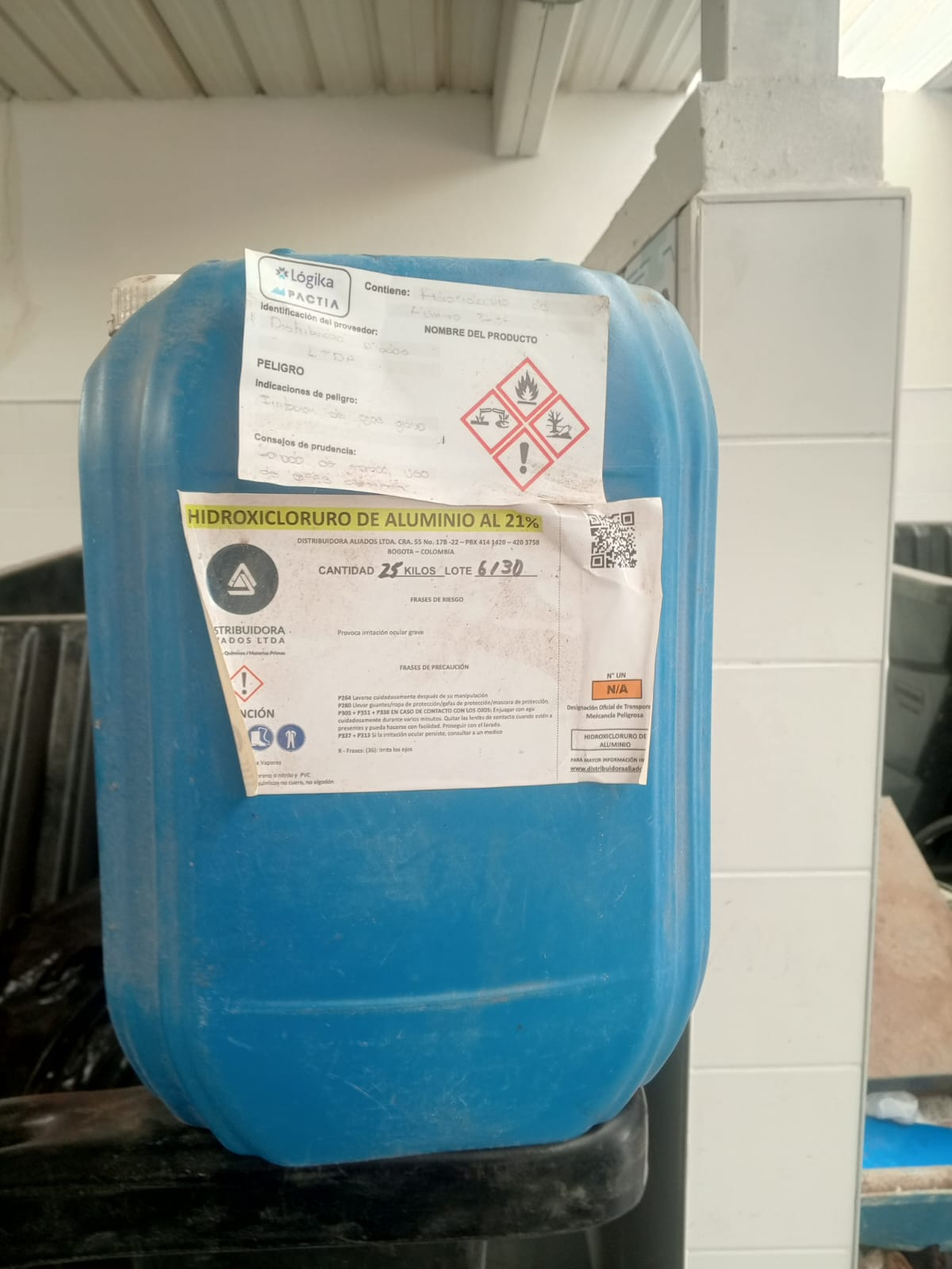Plastico: (78, 251, 717, 1165)
